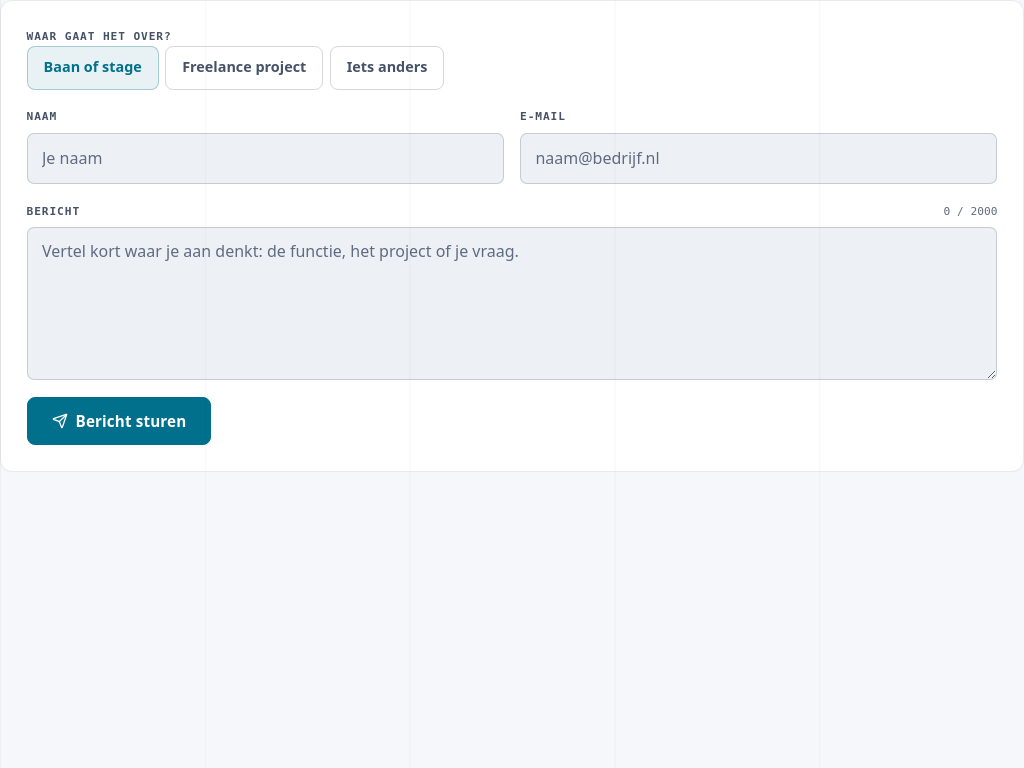
Test: ContactForm › haalt een oude melding weg zodra je verder typt
The image size is (1024, 768).
Click the radio button labelled "Freelance project" at x=244, y=68, box [165,46,323,90]
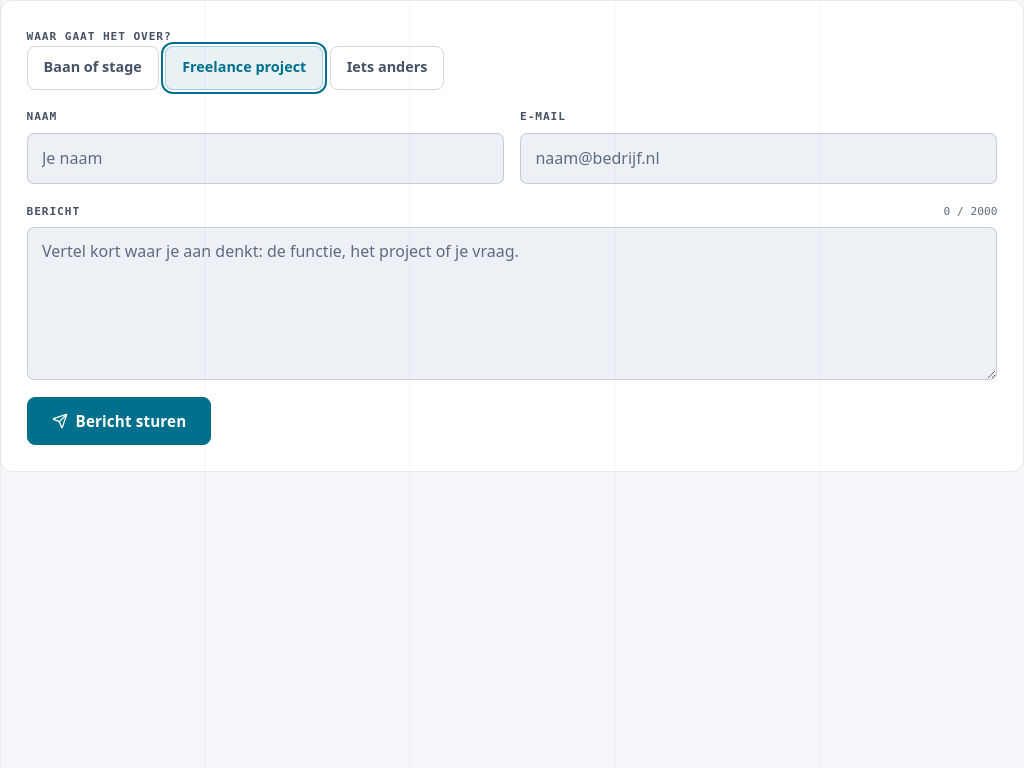
Type "Sanne de Vries" into the field labelled "Naam" at x=265, y=158, box [27,133,504,184]
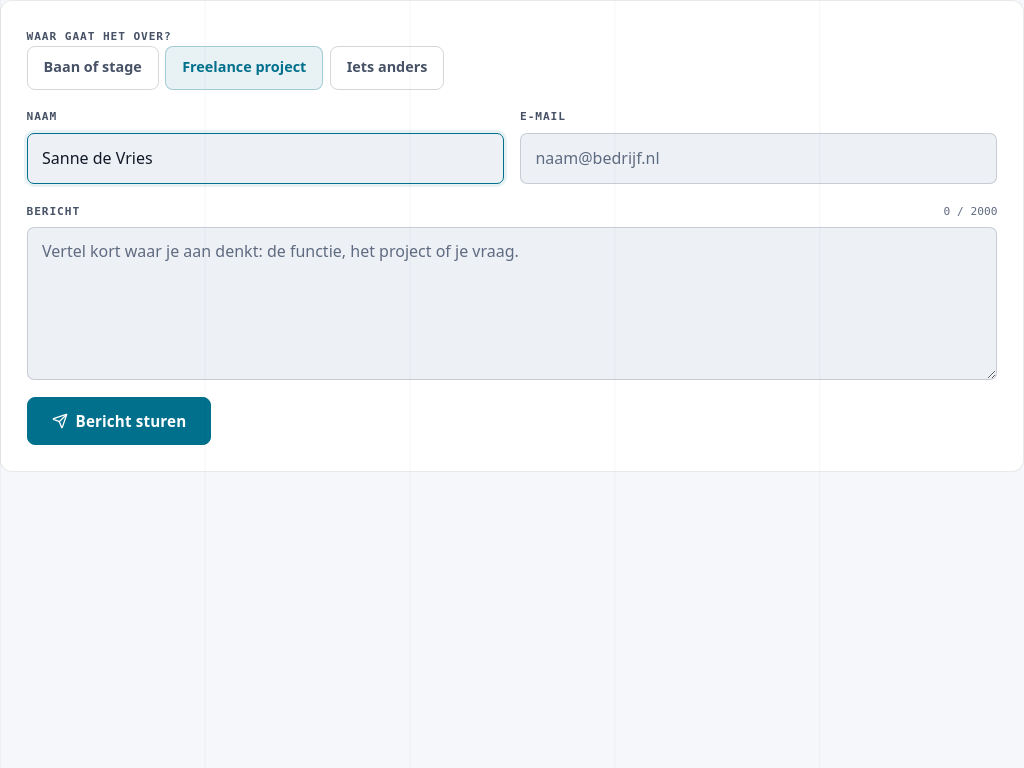
Type "sanne@bedrijf.nl" into the field labelled "E-mail" at x=759, y=158, box [520,133,997,184]
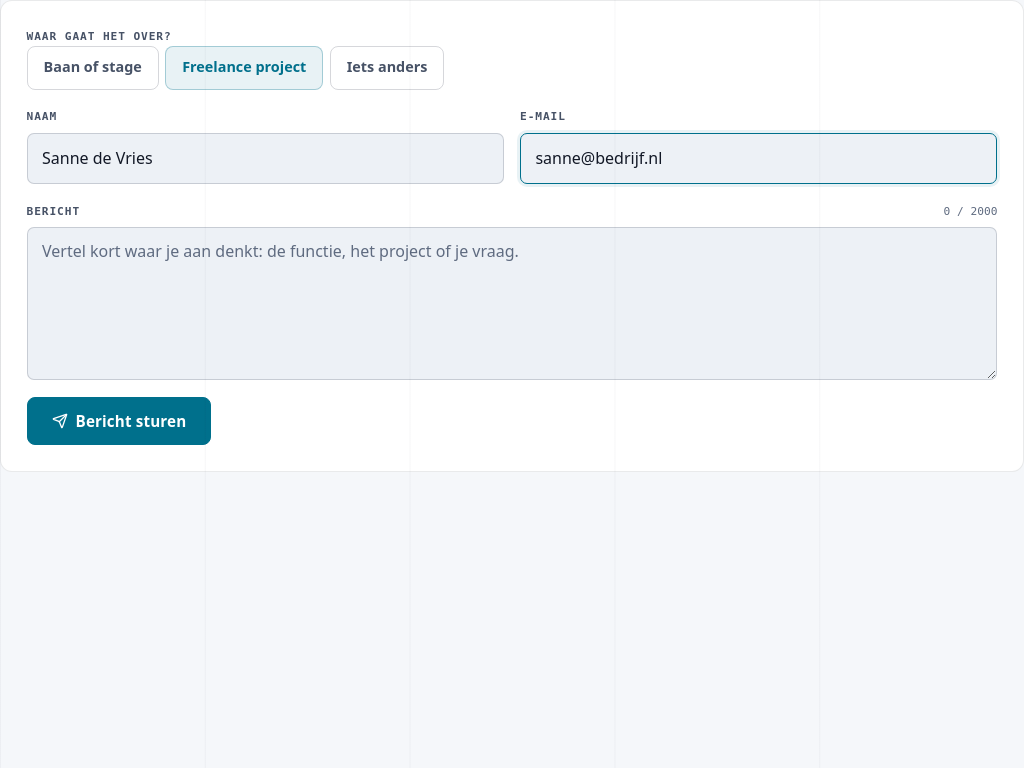
Type "We zoeken een developer voor een React-project." into the text box labelled "Bericht" at x=512, y=303, box [27,227,997,380]
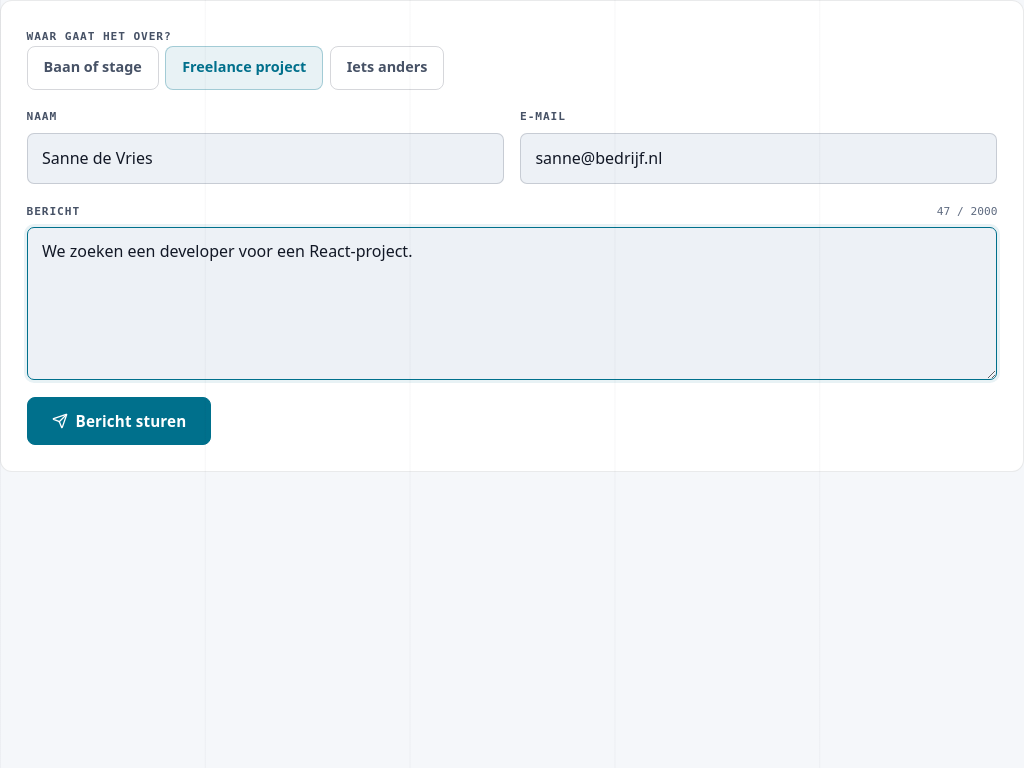
Click the button "Bericht sturen" at x=119, y=421, box [27,397,211,445]
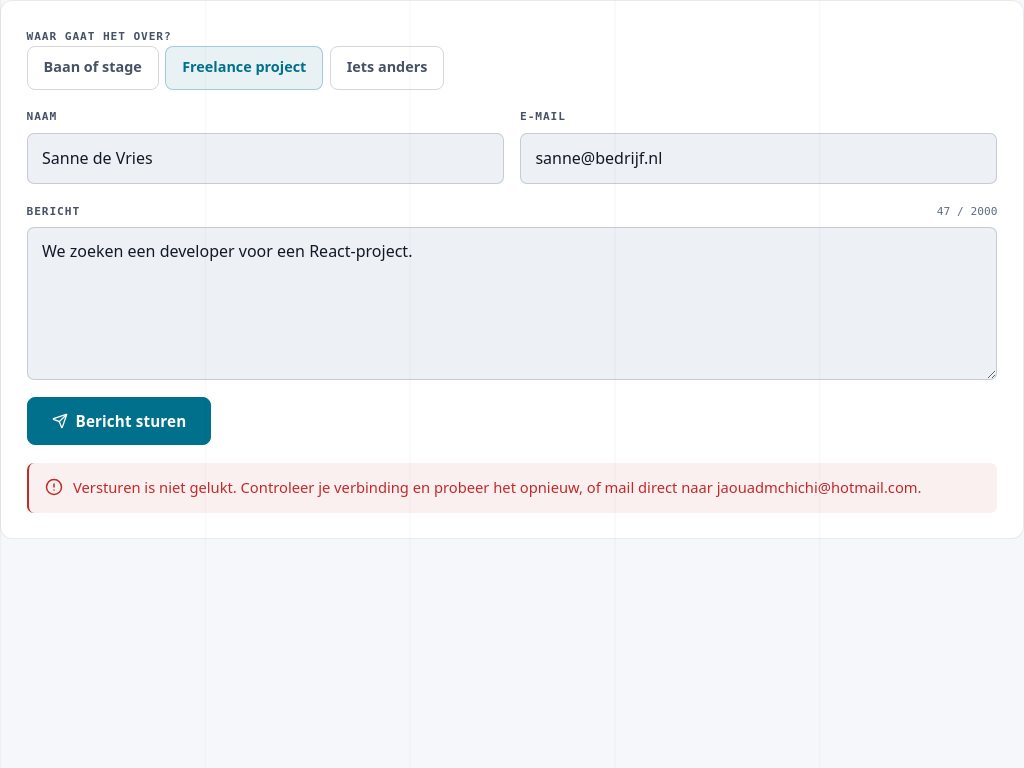
Expected: the text "Versturen is niet gelukt" is shown, [73,477,713,497]
Type "!" into the text box labelled "Bericht" at x=512, y=303, box [27,227,997,380]
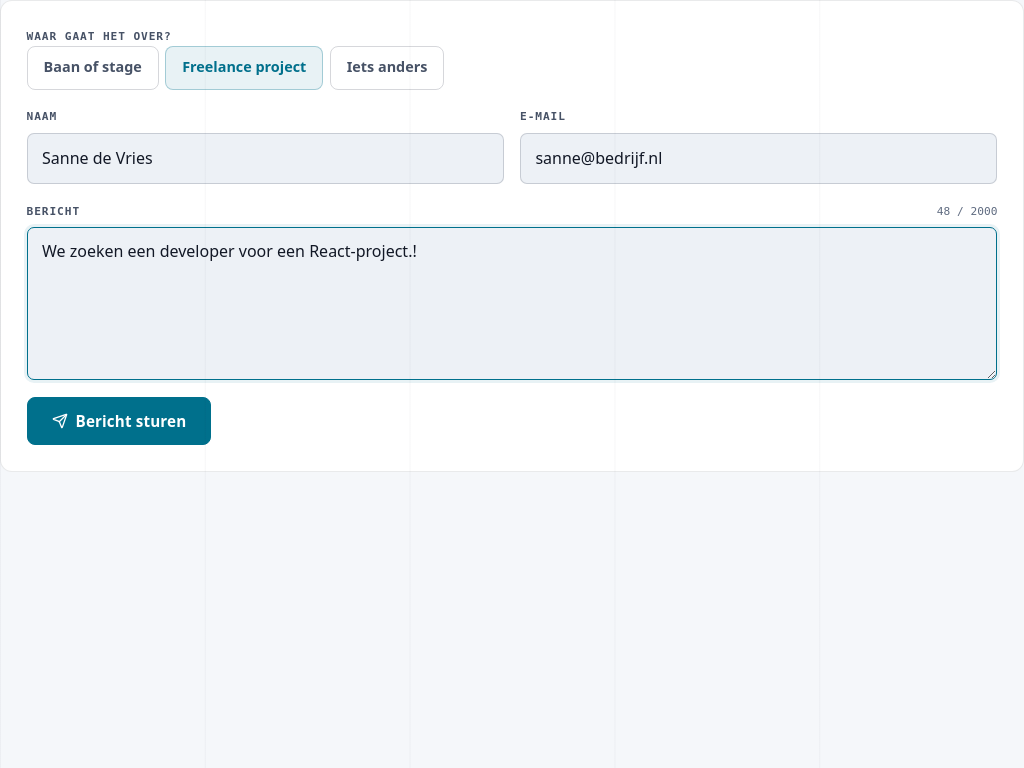
Expected: the text "Versturen is niet gelukt" is gone
